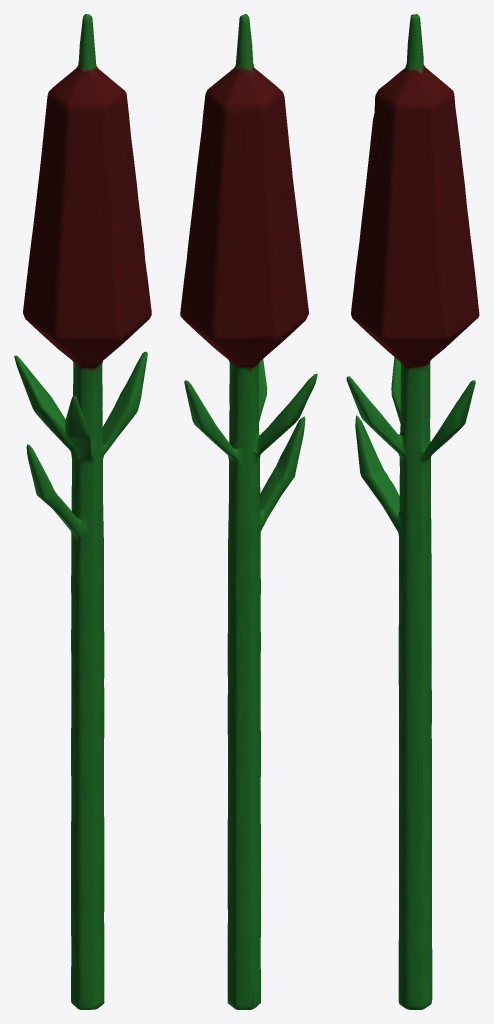
File: gen3d-cattail-reed-lod0.glb
The picture shows the model from 3 angles, left to right: view 1: azimuth 30°, elevation 25°; view 2: azimuth 210°, elevation 25°; view 3: azimuth 330°, elevation 25°; orthographic projection.
Parts seen in each view (by area): view 1: part_0; view 2: part_0; view 3: part_0.
Boxes of the visible parts, x1,y1,x2,y2 form: part_0: (14, 14, 151, 1009); part_0: (180, 14, 317, 1009); part_0: (346, 14, 479, 1009).
Size of the model in its own units: 0.1265 by 0.9999 by 0.1214.
